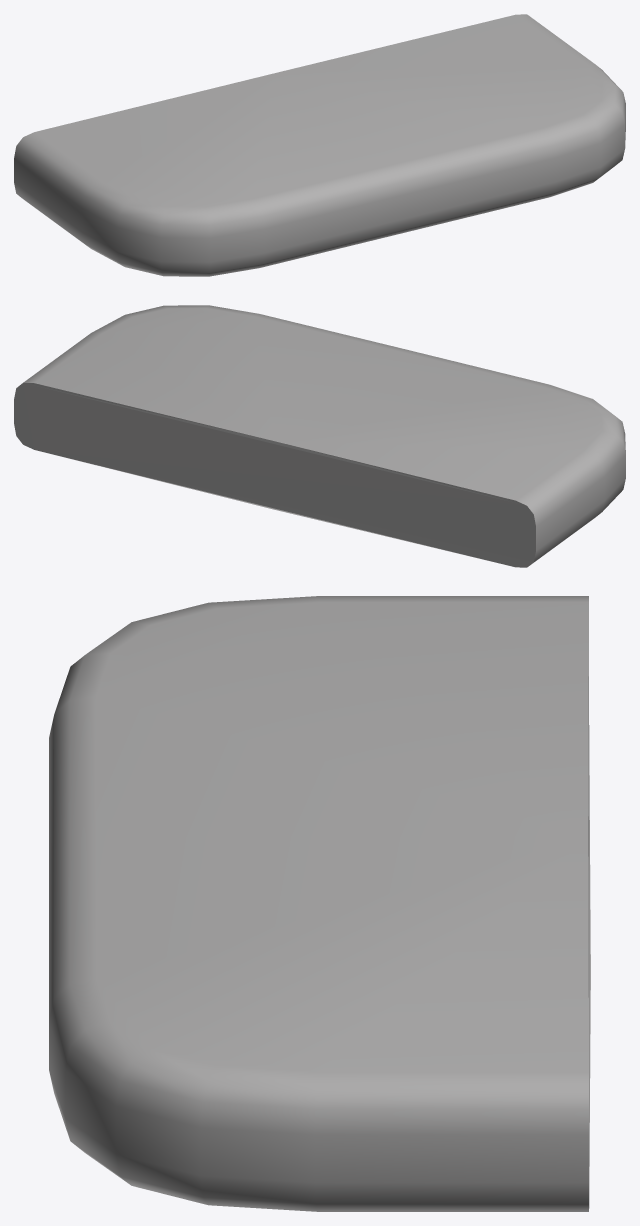
File: Shelf_003.FBX
3 renders of one model, top to bottom at view 1: azimuth 30°, elevation 25°; view 2: azimuth 150°, elevation 25°; view 3: azimuth 270°, elevation 25°, orthographic. The views are drawn at different scales.
Visible parts, largest first — view 1: Shelf_003; view 2: Shelf_003; view 3: Shelf_003.
Boxes of the visible parts, x1=… form: Shelf_003: x1=14, y1=14, x2=625, y2=276; Shelf_003: x1=14, y1=305, x2=625, y2=567; Shelf_003: x1=49, y1=596, x2=590, y2=1211.
Bounding box in the file's own units: 21.48 × 2.67 × 9.65.
